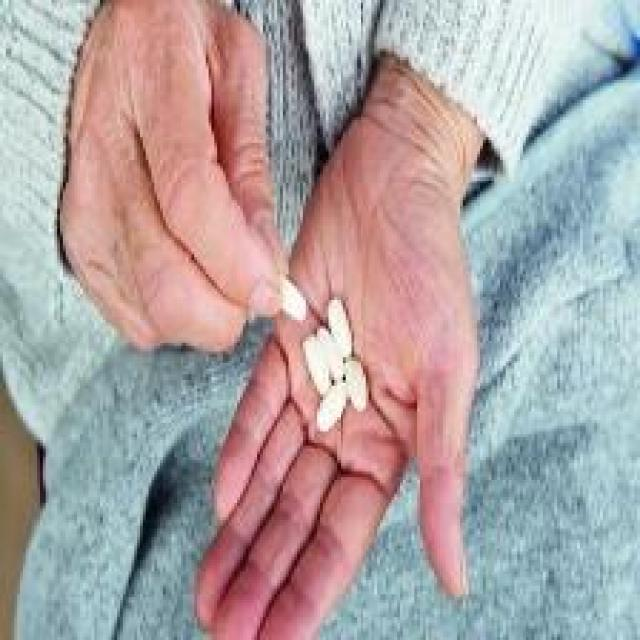Medicine: (252, 240, 378, 434)
